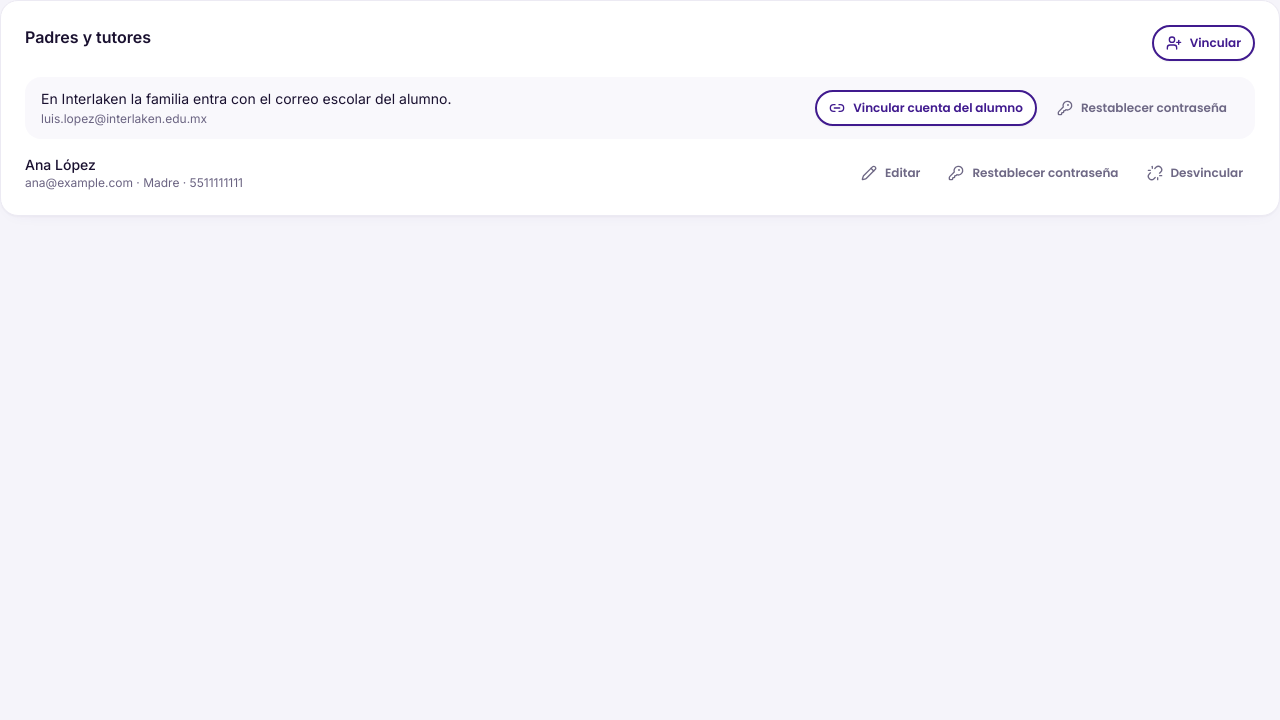
it: StudentGuardians — admin password reset › surfaces the API validation error and keeps the dialog open
The image size is (1280, 720).
Check: the text "Ana López" is shown, box [25,156,96,173]
Click the button with aria-label "Restablecer la contraseña de Ana López" at (1033, 173), box [936,155,1130,191]
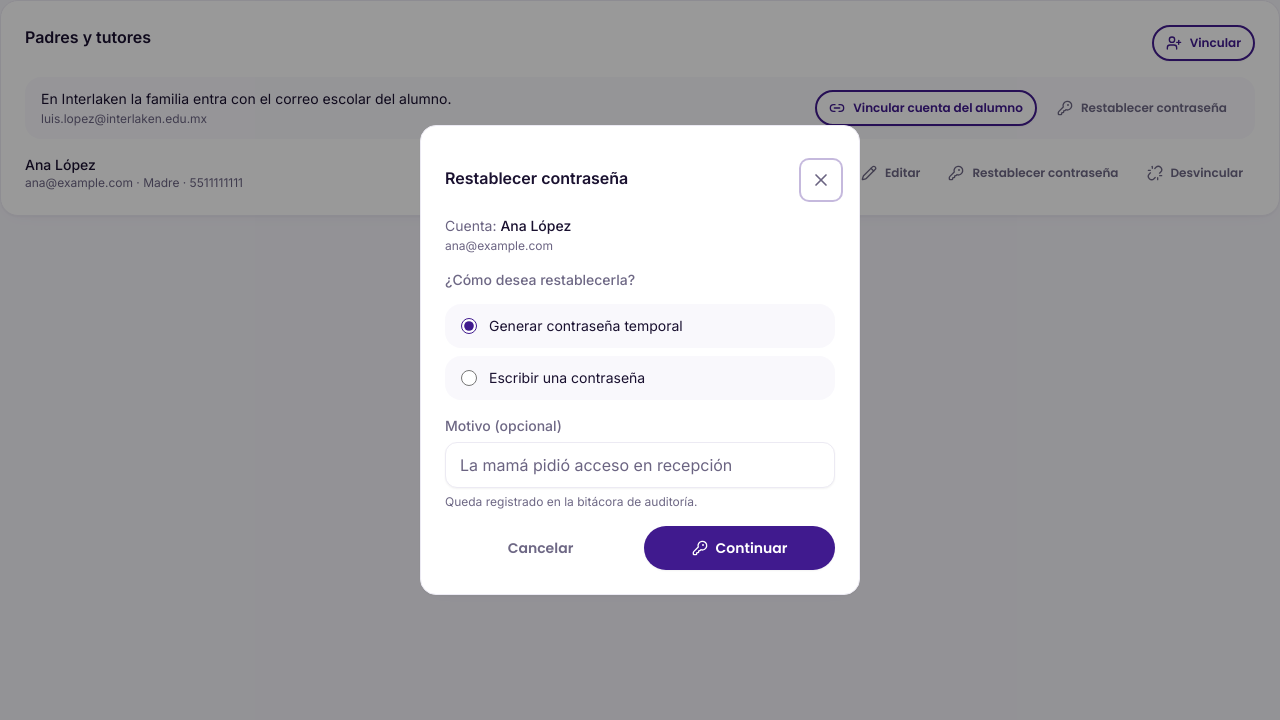
Click the button "Continuar" at (740, 548), box [644,526,835,570]
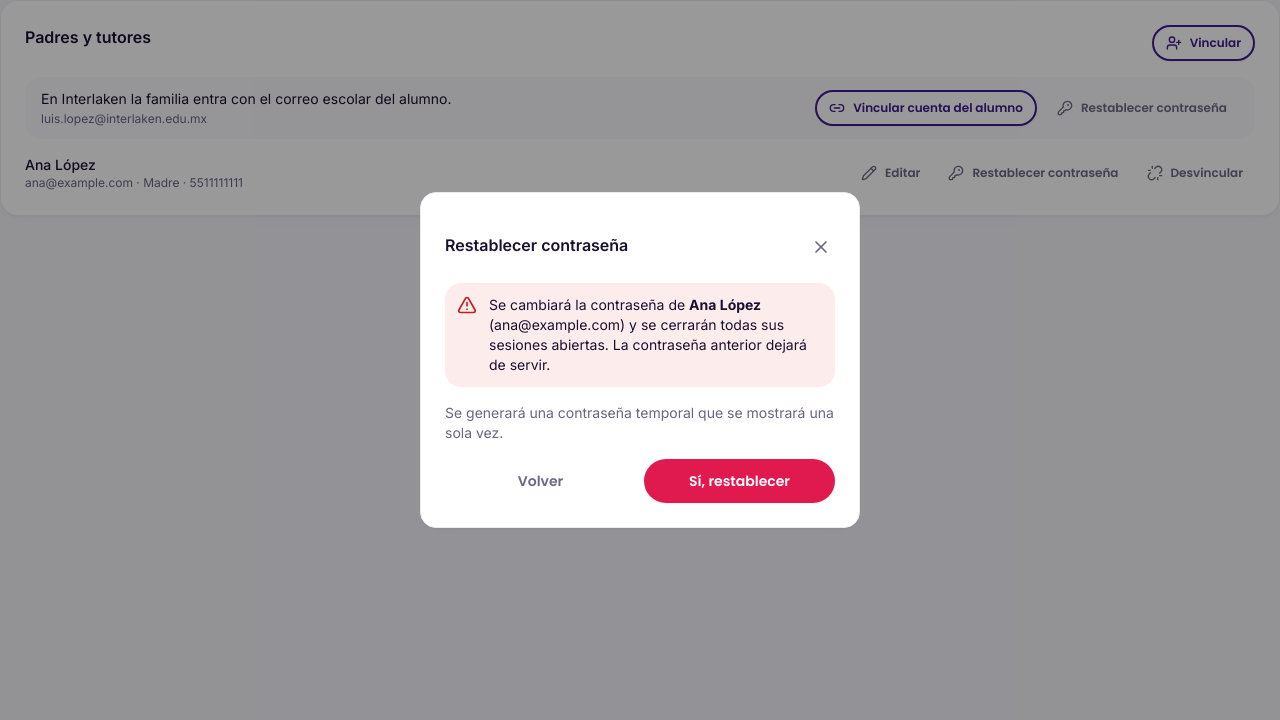
Click the button "Sí, restablecer" at (740, 481), box [644,459,835,503]
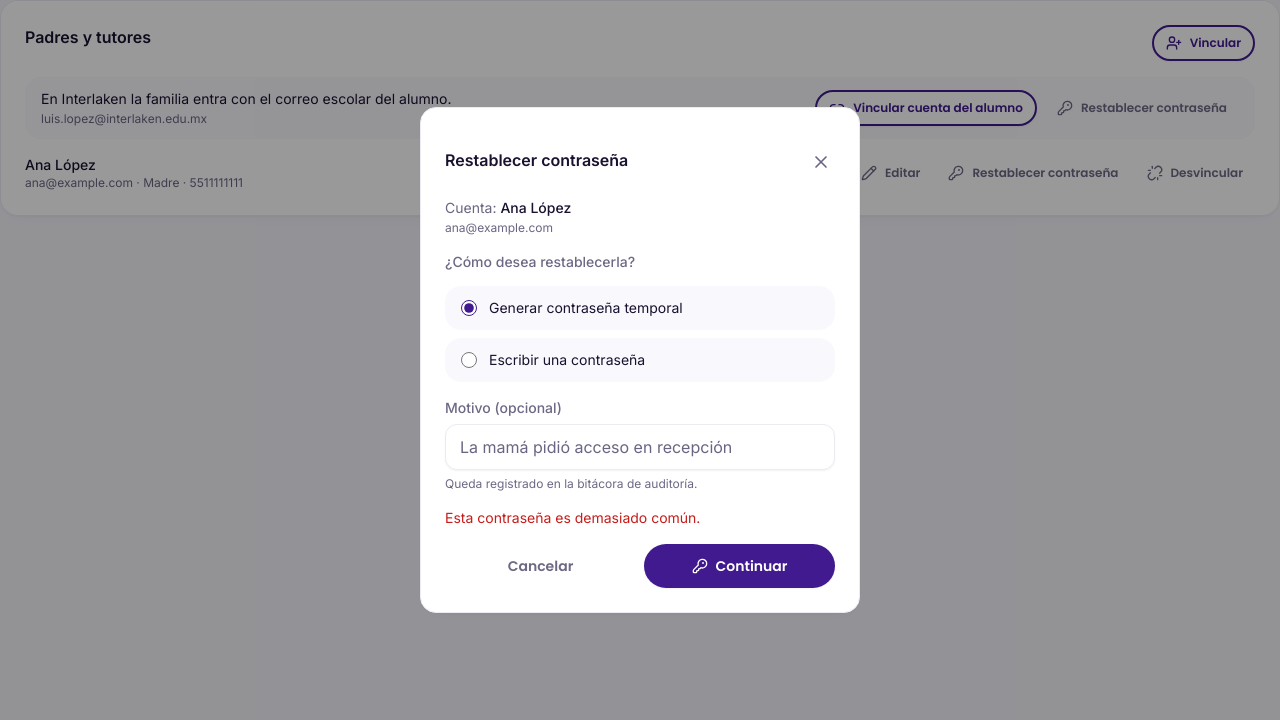
Check: the dialog "Restablecer contraseña" is shown, box [420,107,860,613]
Check: the message reads "Esta contraseña es demasiado común.", box [445,509,700,526]
